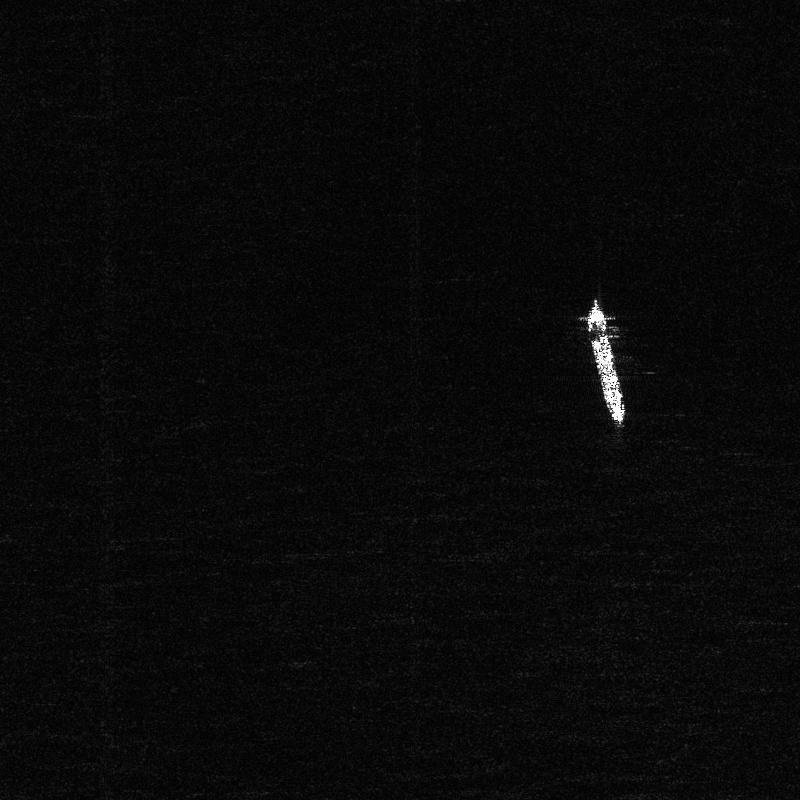ship: (587, 300, 625, 426)
